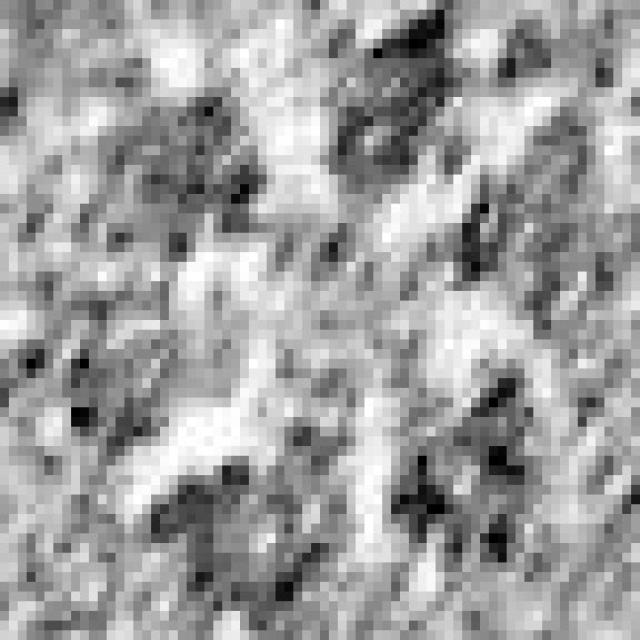inner: (243, 210, 427, 411)
lobe: (440, 104, 621, 345), (157, 428, 363, 629), (391, 367, 544, 568), (318, 4, 469, 201), (95, 92, 266, 265), (23, 285, 189, 462)
outer: (5, 0, 640, 640)
